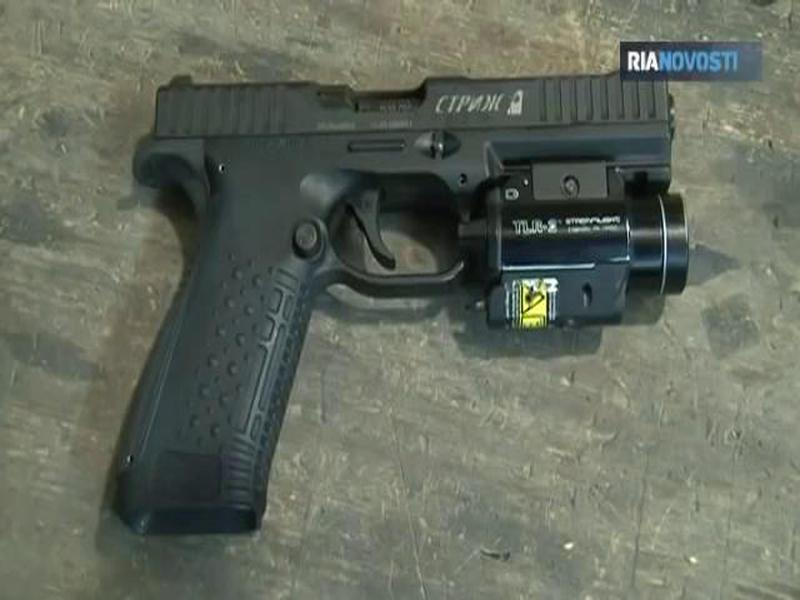Pistola: (105, 58, 702, 533)
